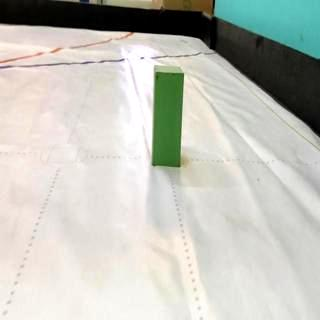greenbox: (151, 63, 185, 167)
